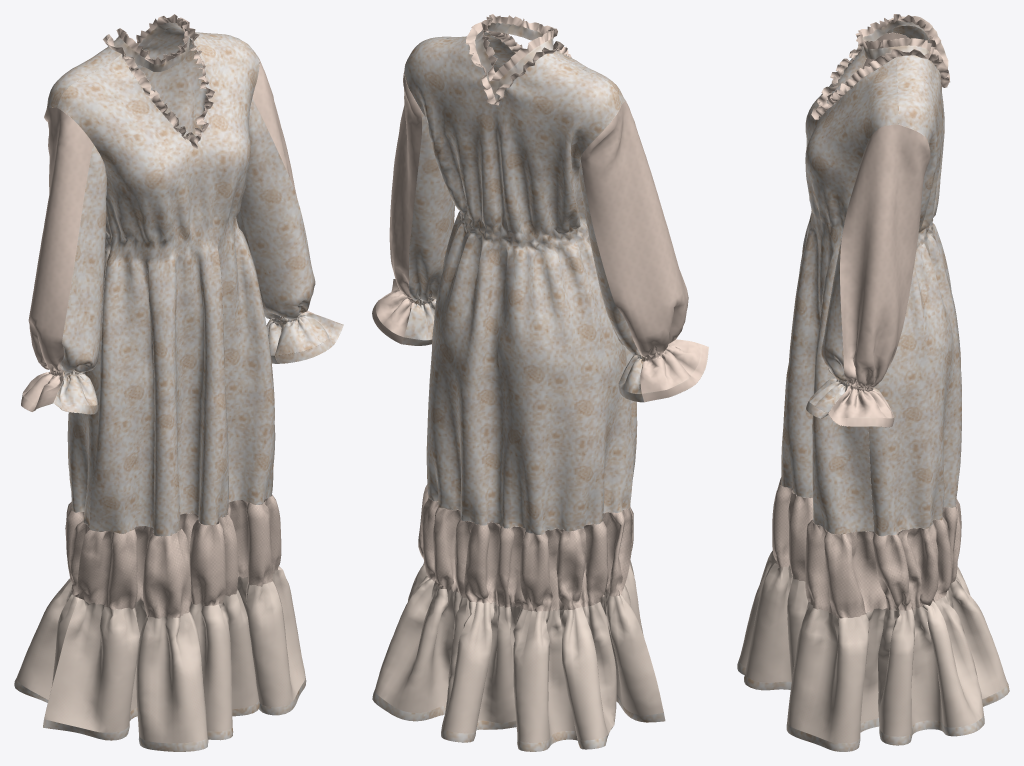
File: chiffon_dress.glb
3 renders of one model, left to right at view 1: azimuth 30°, elevation 25°; view 2: azimuth 150°, elevation 25°; view 3: azimuth 270°, elevation 25°, orthographic. The views are drawn at different scales.
Parts seen in each view (by area): view 1: Object_7, Object_6, Object_10, Object_4, Object_3, Object_5, Object_8, Object_9, Object_2; view 2: Object_4, Object_5, Object_9, Object_3, Object_8, Object_10, Object_7, Object_2, Object_6; view 3: Object_7, Object_4, Object_3, Object_6, Object_9, Object_10, Object_5, Object_8, Object_2.
Boxes of the visible parts, <box> form: Object_7: <box>57,36,343,536</box>; Object_6: <box>44,566,305,743</box>; Object_10: <box>14,494,281,702</box>; Object_4: <box>46,26,241,526</box>; Object_3: <box>236,58,335,355</box>; Object_5: <box>23,17,214,597</box>; Object_8: <box>43,14,343,751</box>; Object_9: <box>16,393,98,707</box>; Object_2: <box>103,34,280,316</box>; Object_4: <box>404,37,645,534</box>; Object_5: <box>418,22,700,611</box>; Object_9: <box>374,344,708,742</box>; Object_3: <box>376,63,455,340</box>; Object_8: <box>475,14,557,101</box>; Object_10: <box>372,507,665,751</box>; Object_7: <box>372,32,637,508</box>; Object_2: <box>494,41,571,105</box>; Object_6: <box>621,560,662,704</box>; Object_7: <box>781,27,898,534</box>; Object_4: <box>868,24,961,536</box>; Object_3: <box>809,124,930,418</box>; Object_6: <box>739,531,886,743</box>; Object_9: <box>878,566,1006,736</box>; Object_10: <box>772,477,1009,745</box>; Object_5: <box>816,32,961,610</box>; Object_8: <box>737,14,943,751</box>; Object_2: <box>811,16,949,119</box>.
Bounding box in the file's own units: 615 × 1286 × 471.
Materials: 1 (1 with a texture image).
